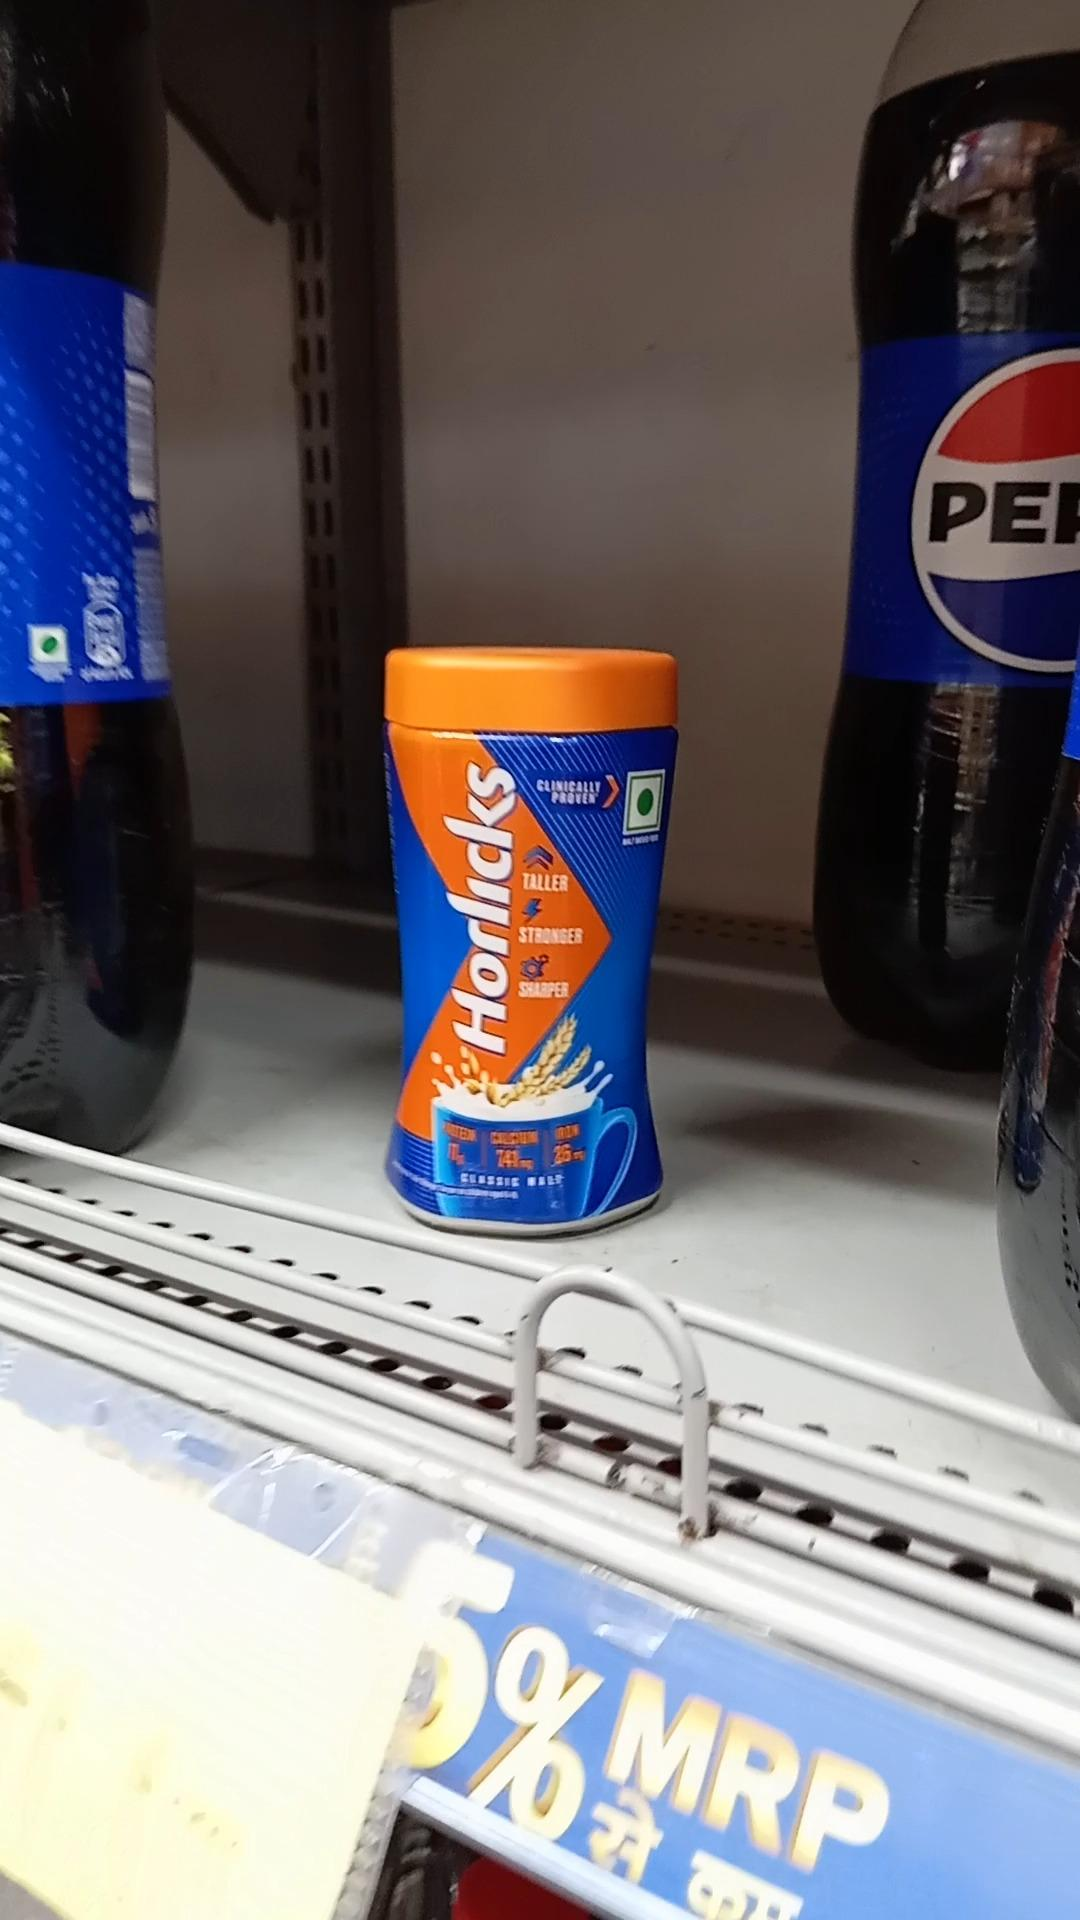HORLICK_CLASSIC_MALT_200_G_JAR: (382, 630, 670, 1228)
